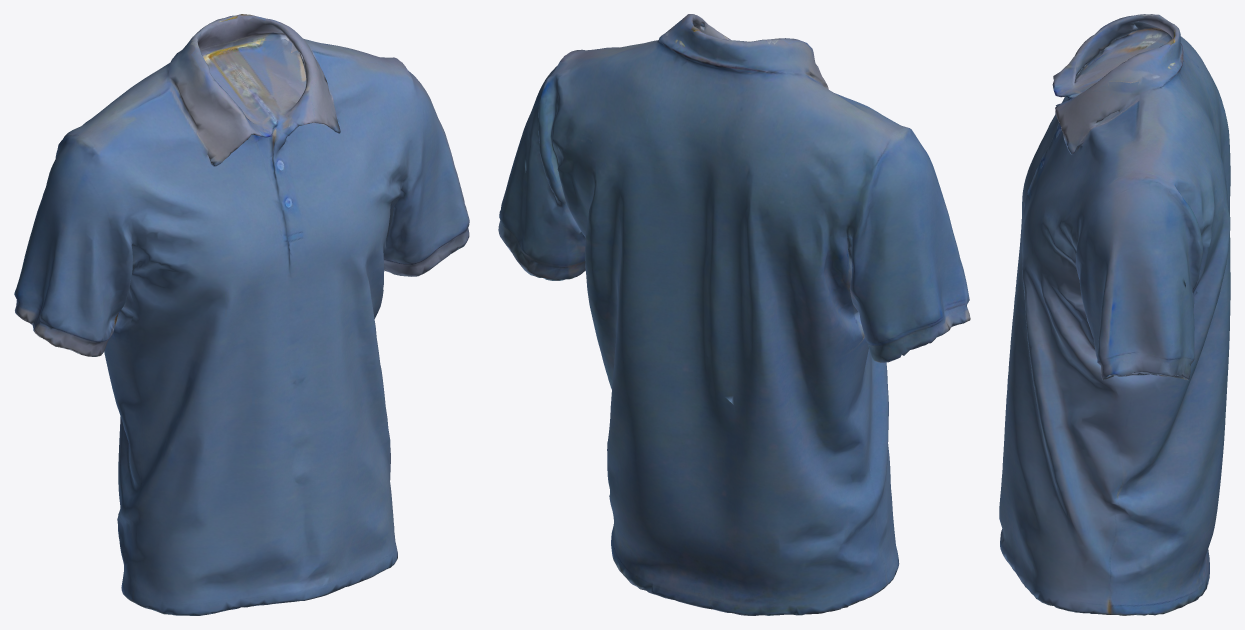
3 renders of one model, left to right at view 1: azimuth 30°, elevation 25°; view 2: azimuth 150°, elevation 25°; view 3: azimuth 270°, elevation 25°, orthographic. The views are drawn at different scales.
Visible parts, largest first — view 1: file1; view 2: file1; view 3: file1.
Part boxes in pixels (bbox=[...]): file1: bbox=[14, 14, 469, 615]; file1: bbox=[498, 14, 970, 615]; file1: bbox=[999, 14, 1230, 615].
Bounding box in the file's own units: 1.68 × 2.01 × 0.7855.
1 material, 1 textured.
